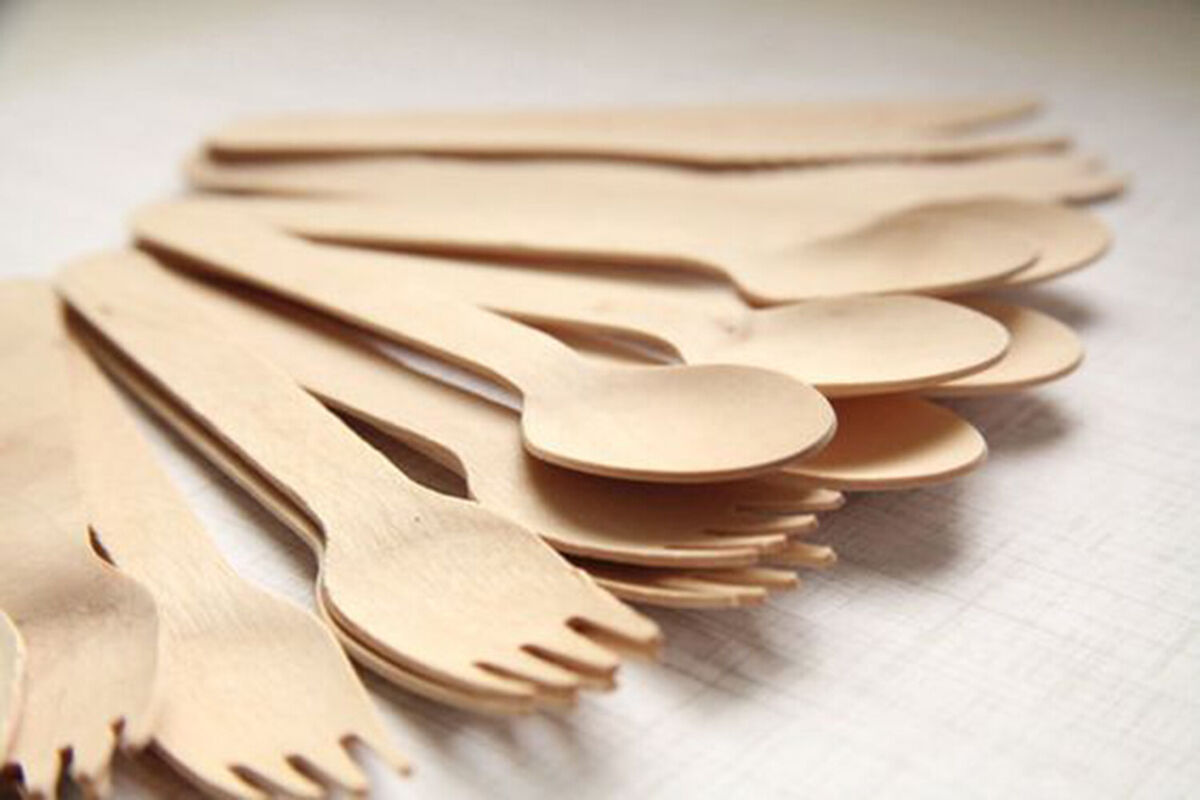Wooden Utensils: (41, 236, 787, 765), (129, 84, 1126, 471)
